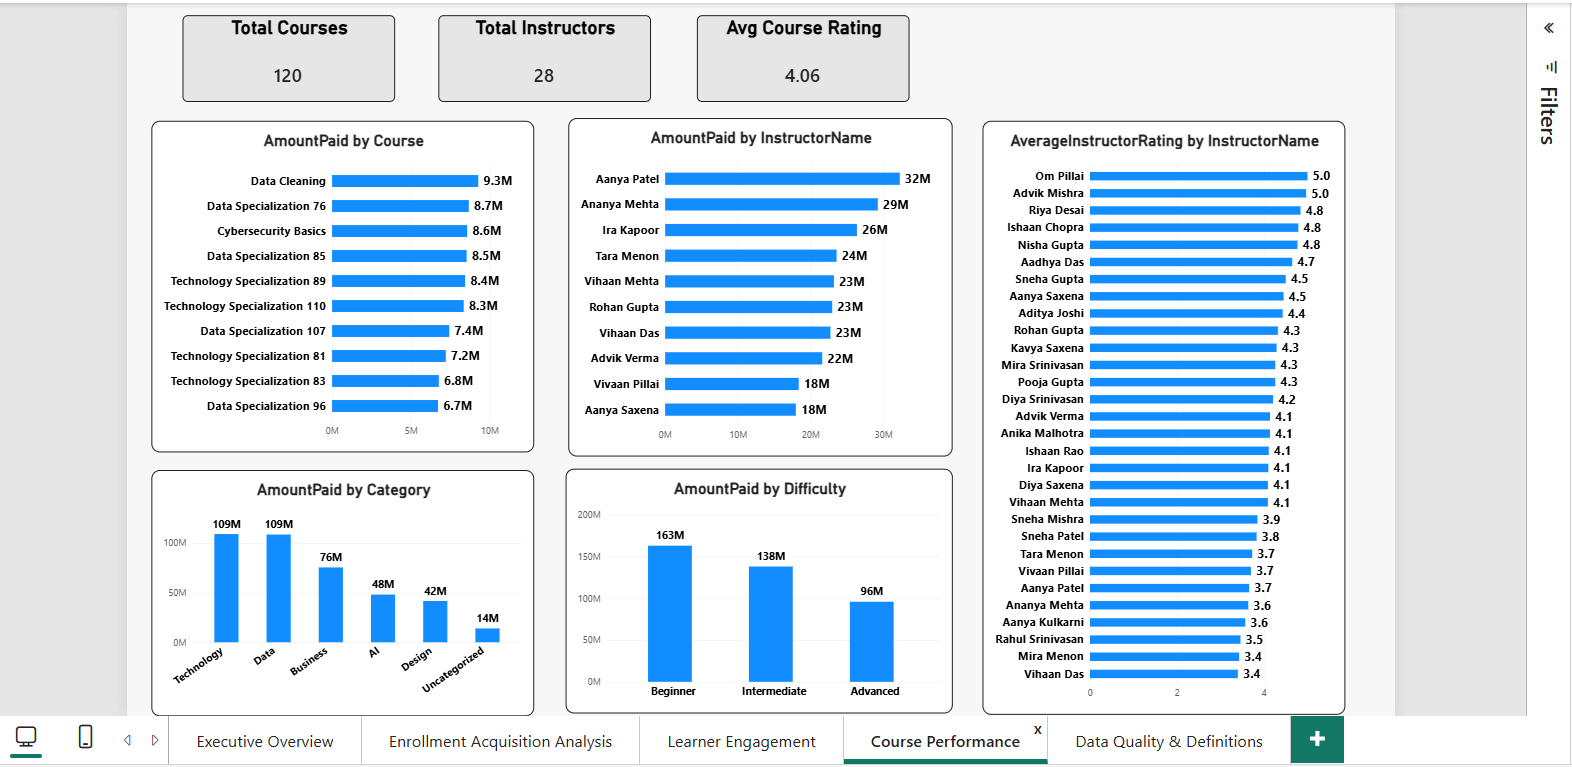

The page's visual inventory and layout, read from the dashboard file:
{"tool":"powerbi","page":{"name":"Course Performance","canvas":[1920,1080],"ordinal":3},"visuals":[{"type":"cardVisual","title":"Total Courses","fields":{"Data":["Count(Courses.CourseID)"]},"box":[84.1,19,321.9,131.2],"z":0},{"type":"cardVisual","title":"Total Instructors","fields":{"Data":["Count(Courses.InstructorID)"]},"box":[471.6,19,321.9,131.2],"z":1},{"type":"cardVisual","title":"Avg Course Rating","fields":{"Data":["Enrollments.Average Course Rating"]},"box":[863.2,19,321.9,131.2],"z":2},{"type":"clusteredBarChart","title":"AmountPaid by Course","fields":{"Category":["Courses.CourseName"],"Y":["Sum(Enrollments.AmountPaid)"]},"box":[36.9,178.4,580.2,502.3],"z":4},{"type":"clusteredColumnChart","title":"AmountPaid by Category","fields":{"Category":["Courses.Category"],"Y":["Sum(Enrollments.AmountPaid)"]},"box":[36.9,707.4,580.2,373.2],"z":5},{"type":"clusteredColumnChart","title":"AmountPaid by Difficulty","fields":{"Category":["Courses.Difficulty"],"Y":["Sum(Enrollments.AmountPaid)"]},"box":[664.3,705.3,586.4,371.1],"z":6},{"type":"clusteredBarChart","title":"AmountPaid by InstructorName","fields":{"Category":["Instructors.InstructorName"],"Y":["Sum(Enrollments.AmountPaid)"]},"box":[668.4,174.3,582.3,512.6],"z":7},{"type":"clusteredBarChart","title":"AverageInstructorRating by InstructorName","fields":{"Category":["Instructors.InstructorName"],"Y":["Sum(Instructors.AverageInstructorRating)"]},"box":[1295.8,178.4,549.5,900.1],"z":8}]}

Visuals, with their boxes on the page's 1920x1080 design canvas (x1, y1, x2, y2). These are canvas units, not pixel positions in the 1572x767 screenshot, which may show the page scaled, cropped or inside an application window:
"Total Courses" cardVisual: x1=84, y1=19, x2=406, y2=150
"Total Instructors" cardVisual: x1=472, y1=19, x2=794, y2=150
"Avg Course Rating" cardVisual: x1=863, y1=19, x2=1185, y2=150
"AmountPaid by Course" clusteredBarChart: x1=37, y1=178, x2=617, y2=681
"AmountPaid by Category" clusteredColumnChart: x1=37, y1=707, x2=617, y2=1081
"AmountPaid by Difficulty" clusteredColumnChart: x1=664, y1=705, x2=1251, y2=1076
"AmountPaid by InstructorName" clusteredBarChart: x1=668, y1=174, x2=1251, y2=687
"AverageInstructorRating by InstructorName" clusteredBarChart: x1=1296, y1=178, x2=1845, y2=1078
